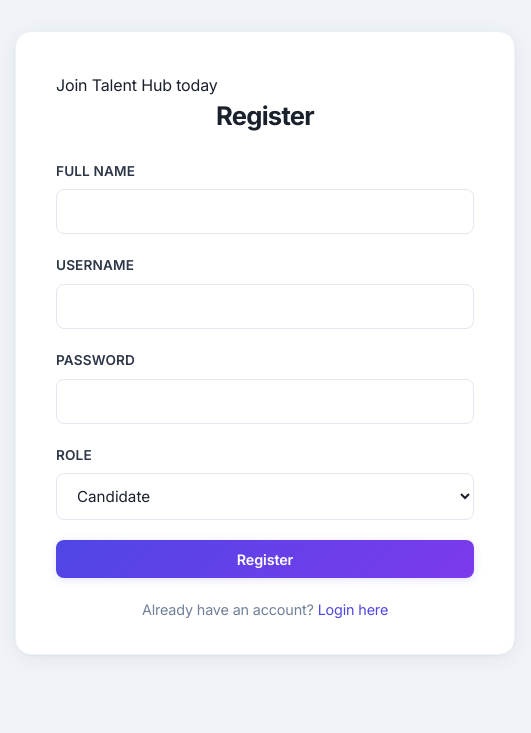
Test: Register › shows generic error when response has no message
Step 1. Type "Alice" into the field labelled "Full Name" → (265, 212), box [56,189,474,234]
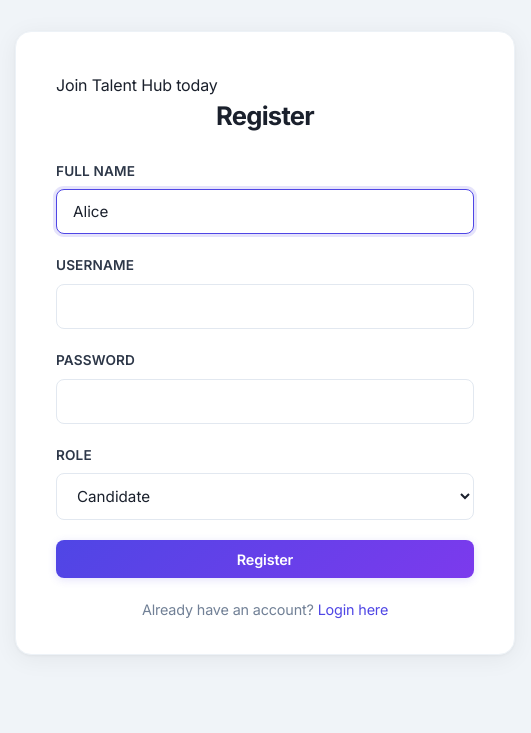
Step 2. Type "alice" into the field labelled "Username" → (265, 306), box [56,284,474,329]
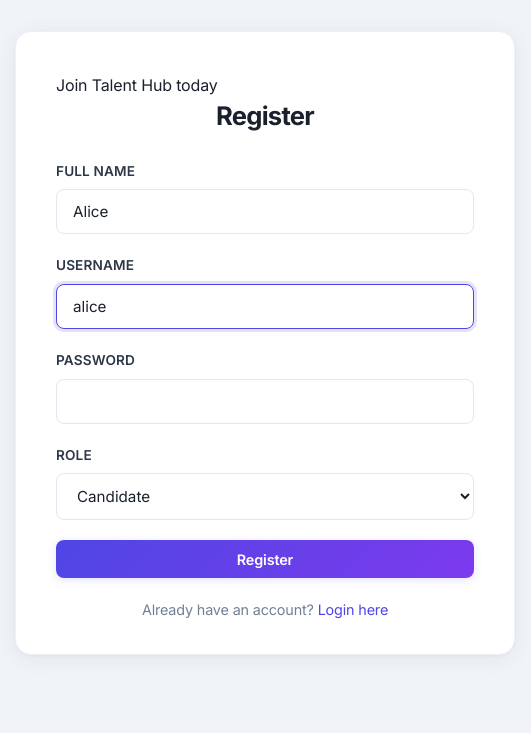
Step 3. Type "password" into the password field labelled "Password" → (265, 401), box [56,379,474,424]
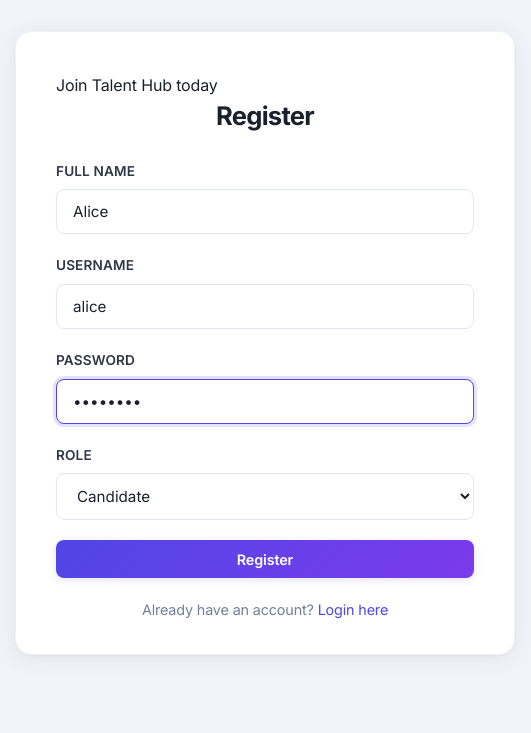
Step 4. Click the button "Register" → (265, 559), box [56,540,474,578]
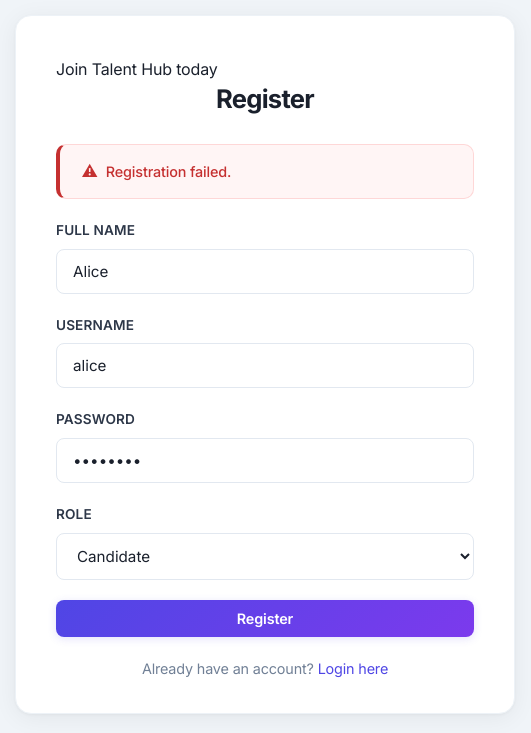
Result: the text "Registration failed." is shown at [56,144,474,199]
